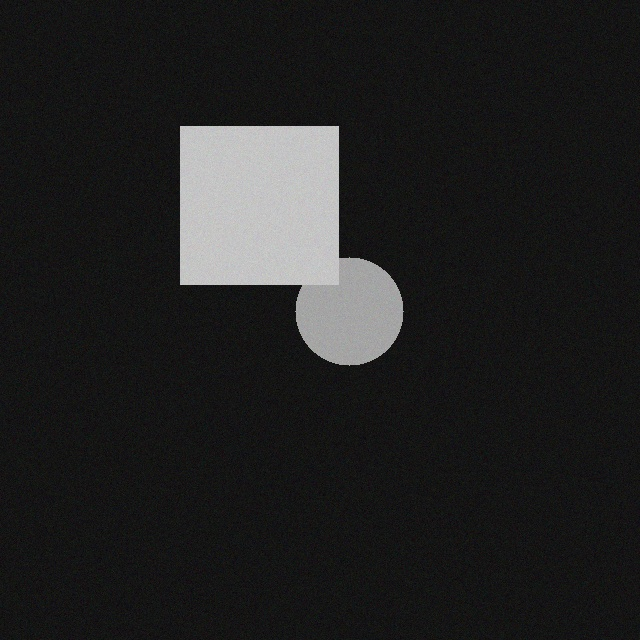circle: (300, 249, 408, 357)
square: (185, 118, 343, 276)
